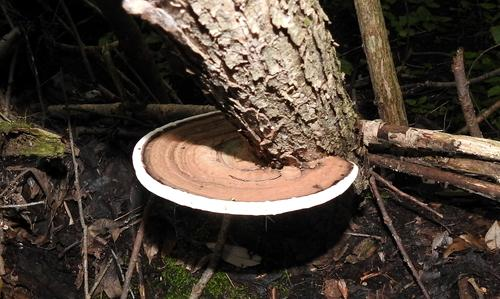Ganoderma - Fruit Body: (131, 109, 360, 217)
